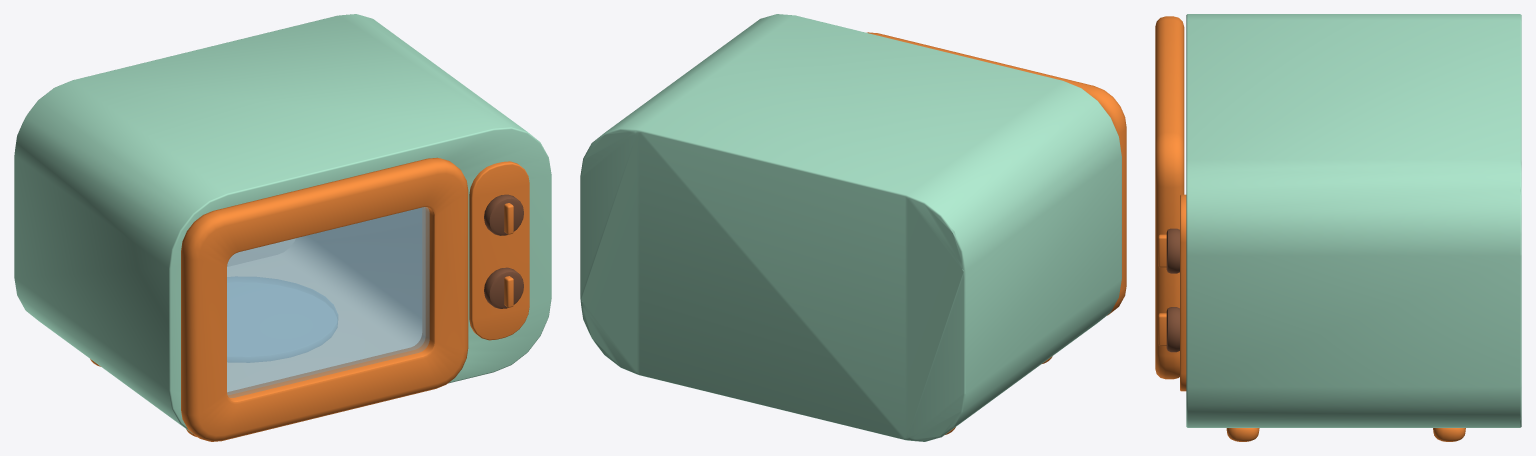
The model's file is micro_ondas_retro_menta.glb.
3 renders of one model, left to right at view 1: azimuth 30°, elevation 25°; view 2: azimuth 150°, elevation 25°; view 3: azimuth 270°, elevation 25°, orthographic. The views are drawn at different scales.
Parts seen in each view (by area): view 1: micro_ondas_retro_menta, porta; view 2: micro_ondas_retro_menta, porta; view 3: micro_ondas_retro_menta, porta.
Part boxes in pixels (left/top/right/bottom): micro_ondas_retro_menta: left=14, top=14, right=551, bottom=436; porta: left=181, top=157, right=468, bottom=441; micro_ondas_retro_menta: left=580, top=14, right=1121, bottom=441; porta: left=867, top=32, right=1126, bottom=315; micro_ondas_retro_menta: left=1158, top=14, right=1521, bottom=441; porta: left=1155, top=16, right=1184, bottom=379.
Size of the model in its own units: 0.46 by 0.298 by 0.355.
Materials: 2 (1 with a texture image).
